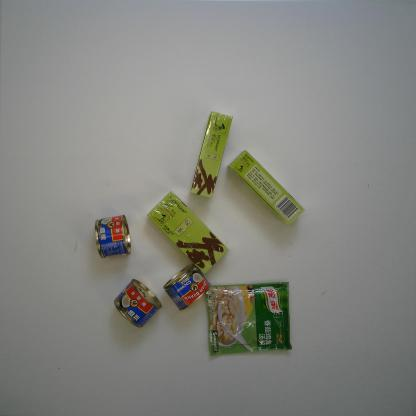Canned Food: (113, 278, 162, 328), (163, 264, 211, 312), (94, 214, 132, 260)
Instant Drink: (146, 190, 230, 275), (226, 150, 305, 226), (189, 110, 233, 200)
Seasoner: (204, 280, 294, 356)
